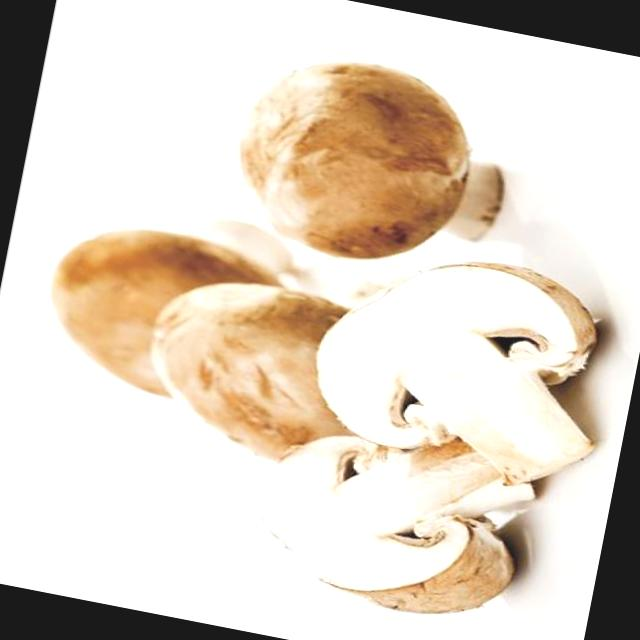Agaricus bisporus: (301, 218, 615, 492), (220, 46, 524, 286), (240, 390, 541, 629), (138, 262, 364, 476)
